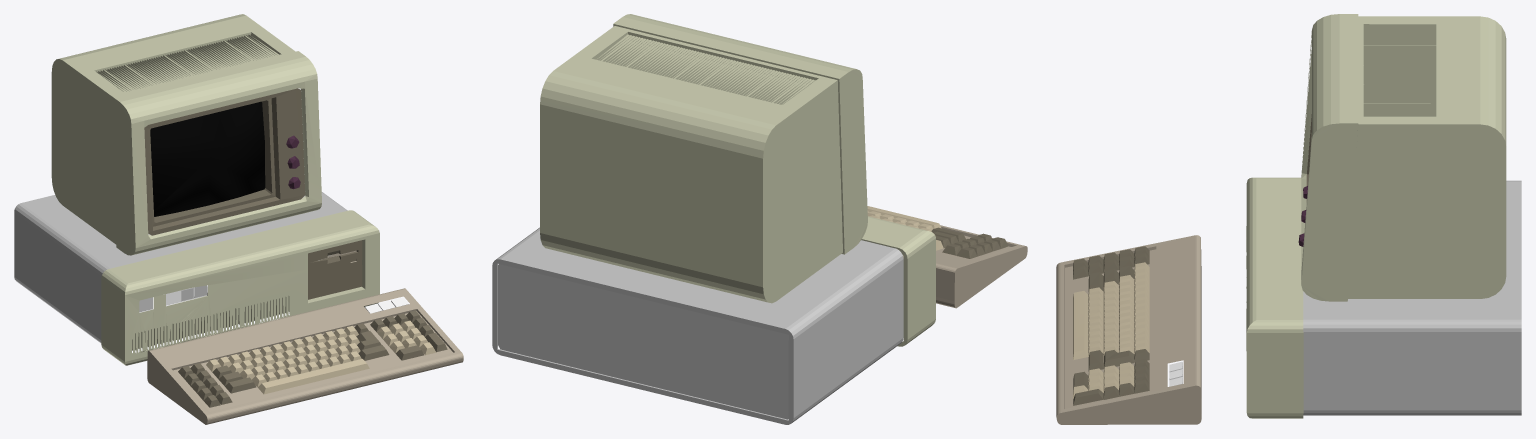
The model's file is ComputerNetworkUE.glb.
3 renders of one model, left to right at view 1: azimuth 30°, elevation 25°; view 2: azimuth 150°, elevation 25°; view 3: azimuth 270°, elevation 25°, orthographic. The views are drawn at different scales.
Parts seen in each view (by area): view 1: StaticMeshActor_UAID_00155D35E6C93F5C01_1394418399_StaticMes; view 2: StaticMeshActor_UAID_00155D35E6C93F5C01_1394418399_StaticMes; view 3: StaticMeshActor_UAID_00155D35E6C93F5C01_1394418399_StaticMes.
Boxes of the visible parts, x1,y1,x2,y2 form: StaticMeshActor_UAID_00155D35E6C93F5C01_1394418399_StaticMes: (14,14,463,424); StaticMeshActor_UAID_00155D35E6C93F5C01_1394418399_StaticMes: (492,14,1027,424); StaticMeshActor_UAID_00155D35E6C93F5C01_1394418399_StaticMes: (1056,14,1521,424).
Size of the model in its own units: 0.672 by 0.5709 by 0.8653.
